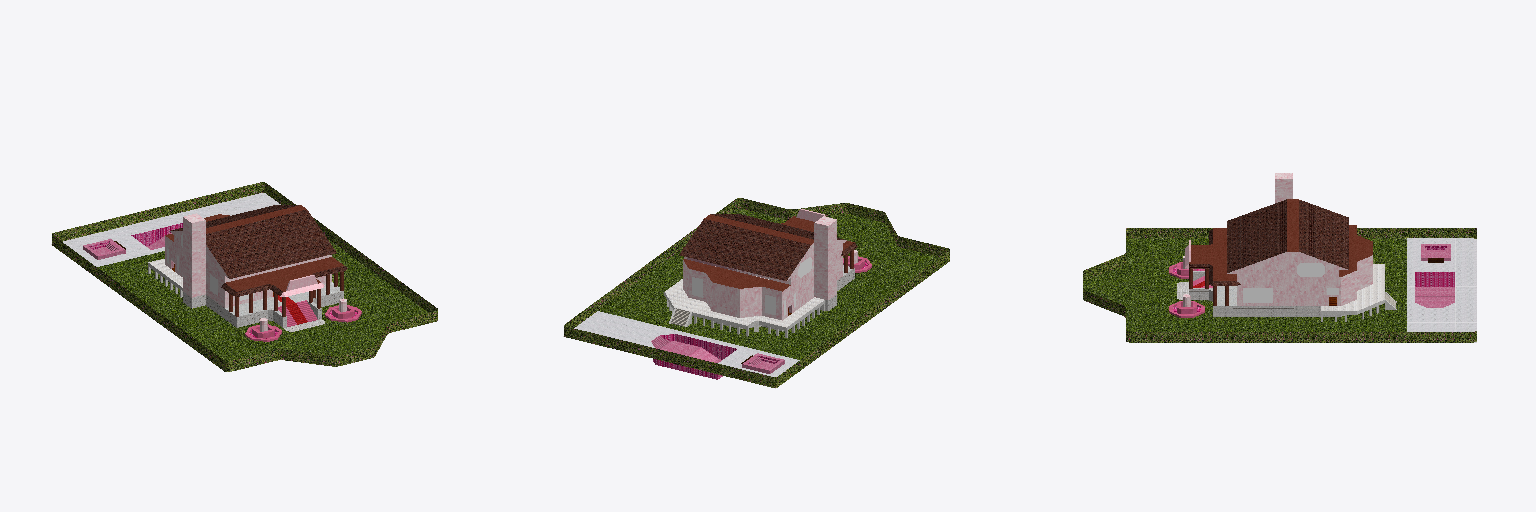
3 views of the same model, side by side, from view 1: azimuth 30°, elevation 25°; view 2: azimuth 150°, elevation 25°; view 3: azimuth 270°, elevation 25° (orthographic).
Parts seen in each view (by area): view 1: grass_mesh[number redacted].006, roofTiles_mesh[number redacted].001, wall.001, walls, ground_mesh[number redacted].008, wall, roofFlat, foundation, fountain, pillars, porch, pool_mesh[number redacted].043 (+1 smaller); view 2: grass_mesh[number redacted].006, walls, roofTiles_mesh[number redacted].001, wall.001, ground_mesh[number redacted].008, wall, roofFlat, deckTop_mesh[number redacted].046, pool_mesh[number redacted].043, poolTiles, deckLegs_mesh[number redacted].045, windows_mesh[number redacted].009; view 3: grass_mesh[number redacted].006, roofTiles_mesh[number redacted].001, wall.001, walls, ground_mesh[number redacted].008, roofFlat, foundation, wall, pool_mesh[number redacted].043, deckTop_mesh[number redacted].046, windows_mesh[number redacted].009, poolTiles (+1 smaller).
Part boxes in pixels (x1,y1,x2,y2): grass_mesh[number redacted].006: (97, 239, 427, 360); roofTiles_mesh[number redacted].001: (171, 205, 347, 296); wall.001: (52, 182, 437, 371); walls: (165, 213, 331, 307); ground_mesh[number redacted].008: (51, 193, 280, 266); wall: (52, 183, 437, 370); roofFlat: (165, 205, 343, 291); foundation: (183, 291, 343, 331); fountain: (245, 305, 361, 341); pillars: (229, 271, 343, 316); porch: (225, 282, 341, 316); pool_mesh[number redacted].043: (83, 233, 171, 259); grass_mesh[number redacted].006: (598, 209, 939, 359); walls: (683, 216, 846, 320); roofTiles_mesh[number redacted].001: (679, 214, 857, 280); wall.001: (564, 198, 949, 387); ground_mesh[number redacted].008: (563, 311, 799, 388); wall: (564, 198, 949, 386); roofFlat: (683, 214, 854, 291); deckTop_mesh[number redacted].046: (665, 279, 823, 327); pool_mesh[number redacted].043: (651, 336, 784, 373); poolTiles: (653, 262, 867, 379); deckLegs_mesh[number redacted].045: (664, 292, 824, 337); windows_mesh[number redacted].009: (692, 257, 811, 315); grass_mesh[number redacted].006: (1083, 238, 1406, 331); roofTiles_mesh[number redacted].001: (1189, 199, 1348, 285); wall.001: (1083, 228, 1476, 342); walls: (1227, 173, 1372, 305); ground_mesh[number redacted].008: (1407, 238, 1476, 342); roofFlat: (1189, 199, 1372, 280); foundation: (1177, 272, 1344, 316); wall: (1083, 228, 1476, 342); pool_mesh[number redacted].043: (1415, 244, 1454, 307); deckTop_mesh[number redacted].046: (1321, 264, 1384, 310); windows_mesh[number redacted].009: (1243, 263, 1338, 302); poolTiles: (1173, 246, 1454, 312).
Bounding box in the file's own units: 1.23 × 0.56 × 1.97.
32 materials, 28 textured.